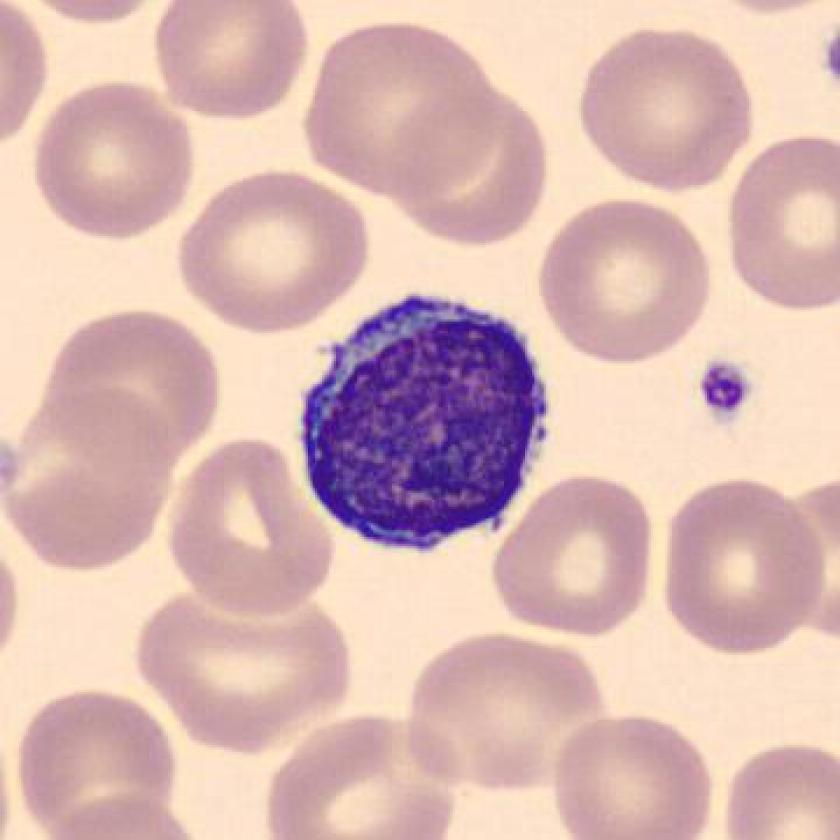lymphocyte: (281, 283, 568, 573)
platelets: (692, 354, 755, 418)
